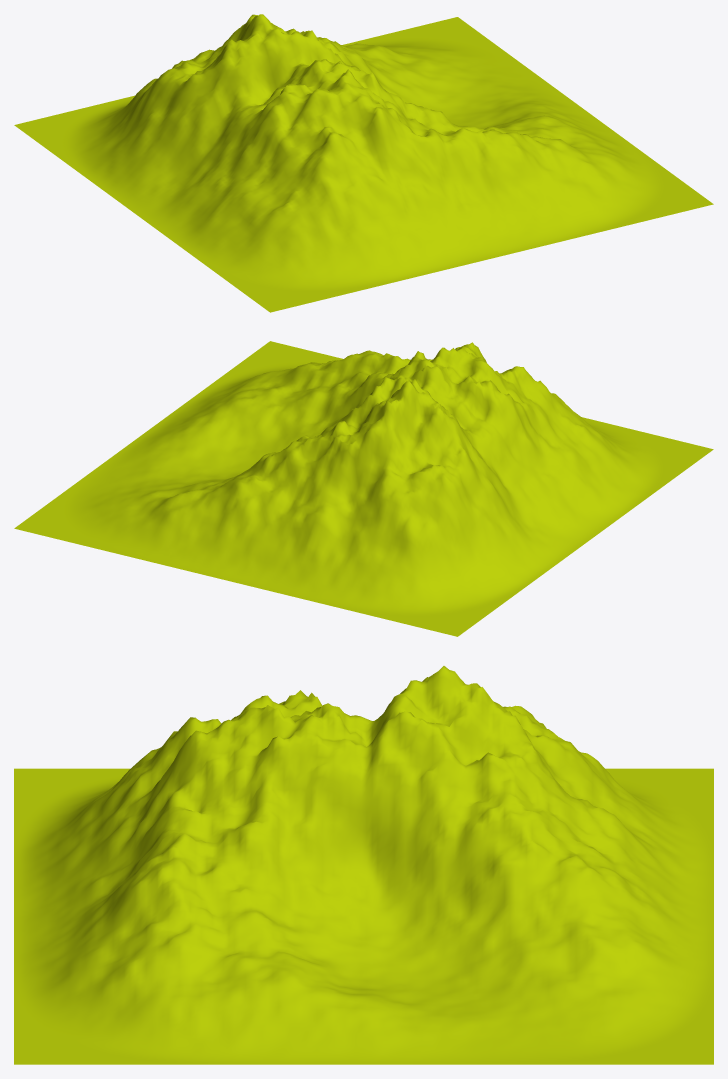
File: terrain__002__.obj
3 renders of one model, top to bottom at view 1: azimuth 30°, elevation 25°; view 2: azimuth 150°, elevation 25°; view 3: azimuth 270°, elevation 25°, orthographic. The views are drawn at different scales.
Parts seen in each view (by area): view 1: Landscape; view 2: Landscape; view 3: Landscape.
Boxes of the visible parts, box(x1,y1,x2,y2) form: Landscape: box(14, 14, 713, 312); Landscape: box(14, 341, 713, 636); Landscape: box(14, 666, 713, 1064).
Bounding box in the file's own units: 2 × 0.6338 × 2.
